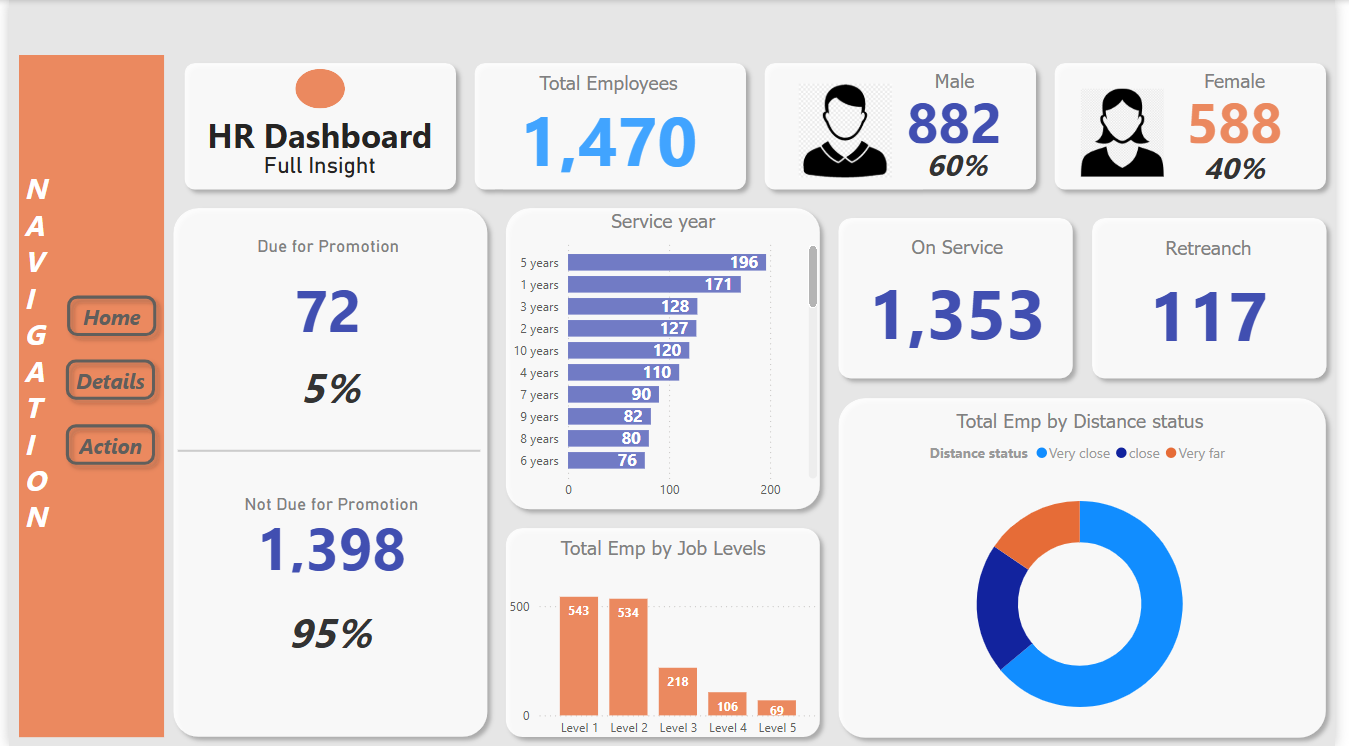

What the dashboard file says about the page in this screenshot:
{"tool":"powerbi","page":{"name":"Home","canvas":[1280,720],"ordinal":0},"visuals":[{"type":"shape","box":[160.5,52.1,279.9,140],"z":0},{"type":"shape","box":[440.5,52.1,279.9,140],"z":1000},{"type":"shape","box":[720.4,52.1,279.9,140],"z":2000},{"type":"shape","box":[1000.3,52.1,279.9,140],"z":3000},{"type":"shape","box":[149.6,192.1,321.1,528.3],"z":4000},{"type":"shape","box":[470.7,192.1,321.1,308.7],"z":5000},{"type":"shape","box":[470.7,500.9,321.1,219.6],"z":6000},{"type":"shape","box":[791.8,201.7,244.3,172.9],"z":7000},{"type":"shape","box":[791.8,374.6,488.5,345.8],"z":8000},{"type":"shape","box":[1036,201.7,244.3,172.9],"z":9000},{"type":"textbox","box":[174.3,104.3,252.5,53.5],"z":10000},{"type":"textbox","box":[174.3,142.7,252.5,38.4],"z":11000},{"type":"shape","box":[275.8,65.9,48,38.4],"z":12000},{"type":"card","title":"Total Employees","fields":{"Values":["All Measures.Total Emp"]},"box":[452.8,68.6,252.5,102.9],"z":13000},{"type":"card","title":"Male","fields":{"Values":["All Measures.Male"]},"box":[837.1,65.9,150.9,76.8],"z":14000},{"type":"card","title":"Male","fields":{"Values":["All Measures.% male"]},"box":[860.4,137.2,109.8,43.9],"z":15000},{"type":"card","title":"Female","fields":{"Values":["All Measures.Female"]},"box":[1107.4,65.9,150.9,76.8],"z":16000},{"type":"card","title":"Male","fields":{"Values":["All Measures.% female"]},"box":[1128,140,109.8,43.9],"z":17000},{"type":"image","box":[1000.3,81,149.6,94.7],"z":18000},{"type":"image","box":[732.8,75.5,149.6,100.2],"z":19000},{"type":"card","title":"Not Due for Promotion","fields":{"Values":["All Measures.Not due"]},"box":[216.8,476.2,188,81],"z":20000},{"type":"card","title":"Due for Promotion","fields":{"Values":["All Measures.Due for promotion"]},"box":[189.4,226.4,237.4,120.8],"z":21000},{"type":"card","title":"Due for Promotion","fields":{"Values":["All Measures.% Due for promotion"]},"box":[215.4,333.4,189.4,81],"z":22000},{"type":"card","title":"Due for Promotion","fields":{"Values":["All Measures.% Not due"]},"box":[215.4,569.5,188,81],"z":23000},{"type":"shape","box":[163.3,414.4,292.3,42.5],"z":24000},{"type":"barChart","title":"Service year","fields":{"Category":["HR Analytics Data.Service year"],"Y":["All Measures.Total Emp"]},"box":[477.5,201.7,307.4,289.5],"z":25000},{"type":"columnChart","title":"Total Emp by Job Levels","fields":{"Category":["HR Analytics Data.Job Levels"],"Y":["All Measures.Total Emp"]},"box":[477.5,517.3,307.4,203.1],"z":26000},{"type":"card","title":"On Service","fields":{"Values":["All Measures.on service"]},"box":[819.2,226.4,192.1,120.8],"z":27000},{"type":"card","title":"Retreanch","fields":{"Values":["All Measures.Will be retreanched"]},"box":[1062.1,227.8,192.1,120.8],"z":28000},{"type":"donutChart","fields":{"Category":["HR Analytics Data.Distance status"],"Y":["All Measures.Total Emp"]},"box":[808.2,394.8,450.4,325],"z":29000},{"type":"textbox","box":[10,52.7,139.7,658.5],"z":30000},{"type":"actionButton","box":[47,276.5,104.1,57],"z":30001},{"type":"actionButton","box":[45.6,337.8,104.1,57],"z":30003},{"type":"actionButton","box":[45.6,400.5,104.1,57],"z":30004}]}

Visuals, with their boxes in screenshot pixels (x1, y1, x2, y2), scaled from the page's 1280x720 canvas onto the 1349x746 screenshot:
shape: x1=169, y1=54, x2=464, y2=199
shape: x1=464, y1=54, x2=759, y2=199
shape: x1=759, y1=54, x2=1054, y2=199
shape: x1=1054, y1=54, x2=1348, y2=199
shape: x1=158, y1=199, x2=496, y2=745
shape: x1=496, y1=199, x2=834, y2=519
shape: x1=496, y1=519, x2=834, y2=745
shape: x1=834, y1=209, x2=1092, y2=388
shape: x1=834, y1=388, x2=1348, y2=745
shape: x1=1092, y1=209, x2=1348, y2=388
textbox: x1=184, y1=108, x2=450, y2=163
textbox: x1=184, y1=148, x2=450, y2=188
shape: x1=291, y1=68, x2=341, y2=108
"Total Employees" card: x1=477, y1=71, x2=743, y2=178
"Male" card: x1=882, y1=68, x2=1041, y2=148
"Male" card: x1=907, y1=142, x2=1022, y2=188
"Female" card: x1=1167, y1=68, x2=1326, y2=148
"Male" card: x1=1189, y1=145, x2=1305, y2=191
image: x1=1054, y1=84, x2=1212, y2=182
image: x1=772, y1=78, x2=930, y2=182
"Not Due for Promotion" card: x1=228, y1=493, x2=427, y2=577
"Due for Promotion" card: x1=200, y1=235, x2=450, y2=360
"Due for Promotion" card: x1=227, y1=345, x2=427, y2=429
"Due for Promotion" card: x1=227, y1=590, x2=425, y2=674
shape: x1=172, y1=429, x2=480, y2=473
"Service year" barChart: x1=503, y1=209, x2=827, y2=509
"Total Emp by Job Levels" columnChart: x1=503, y1=536, x2=827, y2=745
"On Service" card: x1=863, y1=235, x2=1066, y2=360
"Retreanch" card: x1=1119, y1=236, x2=1322, y2=361
donutChart - HR Analytics Data.Distance status x All Measures.Total Emp: x1=852, y1=409, x2=1326, y2=745
textbox: x1=11, y1=55, x2=158, y2=737
actionButton: x1=50, y1=286, x2=159, y2=346
actionButton: x1=48, y1=350, x2=158, y2=409
actionButton: x1=48, y1=415, x2=158, y2=474
